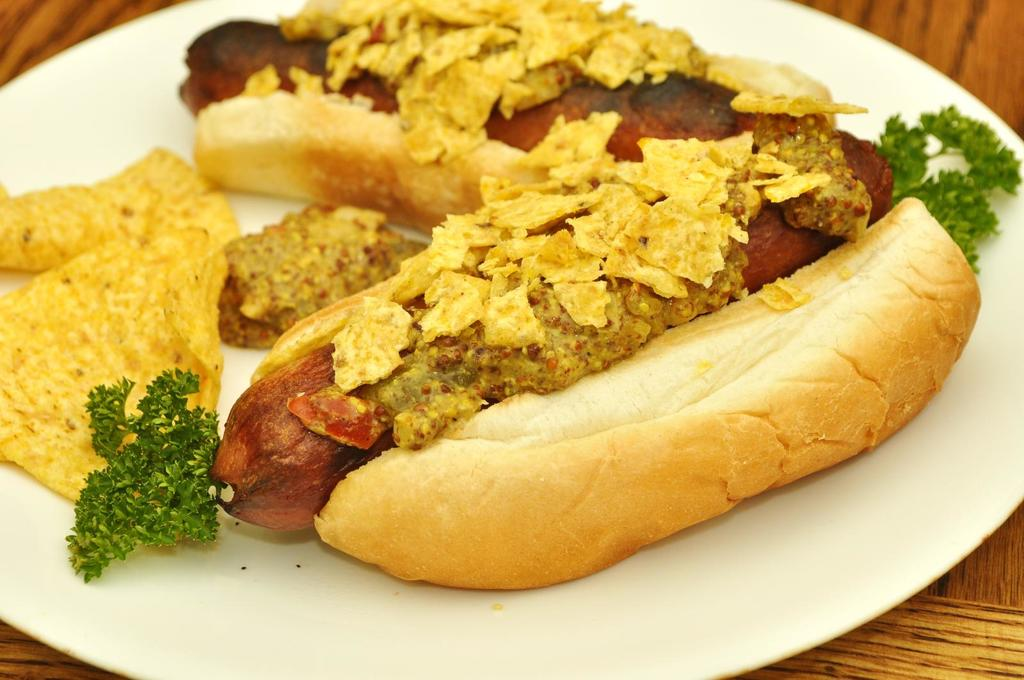hot_dog: (212, 109, 981, 586), (174, 0, 874, 189)
